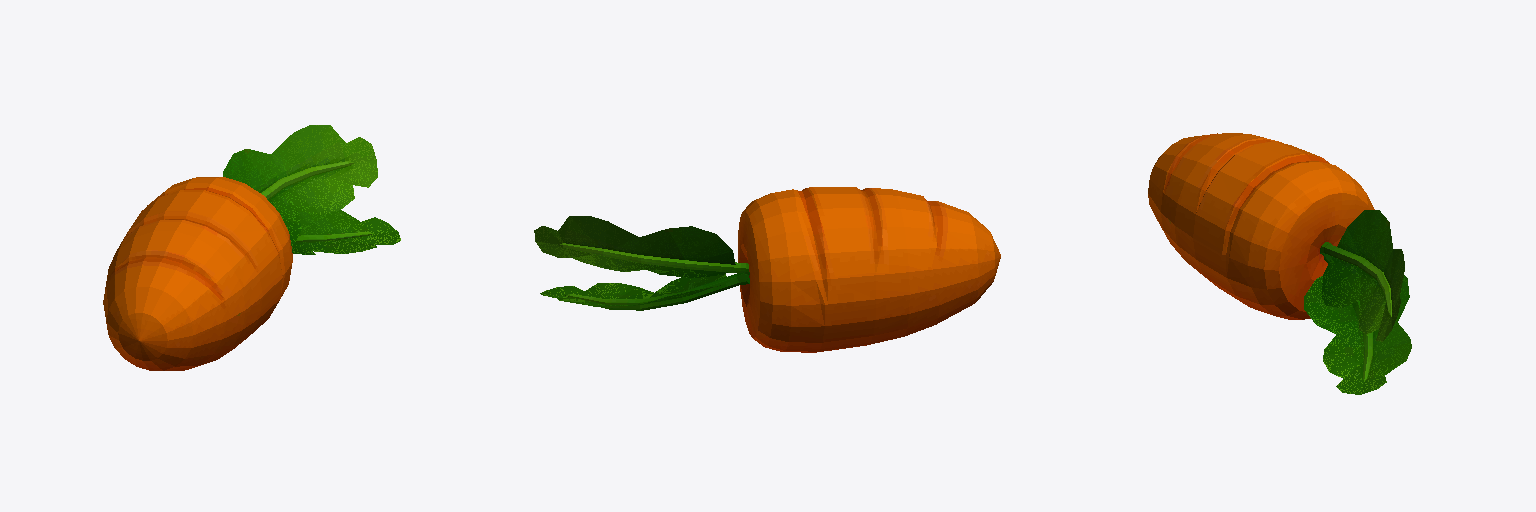
The picture shows the model from 3 angles: view 1: azimuth 30°, elevation 25°; view 2: azimuth 150°, elevation 25°; view 3: azimuth 270°, elevation 25°; orthographic projection.
Visible parts, largest first — view 1: Carrot; view 2: Carrot; view 3: Carrot.
Part boxes in pixels (left/top/right/bottom): Carrot: left=103, top=125, right=400, bottom=370; Carrot: left=534, top=187, right=1000, bottom=352; Carrot: left=1148, top=133, right=1411, bottom=394.
Bounding box in the file's own units: 0.2985 × 0.118 × 0.1872.
Materials: 1 (1 with a texture image).